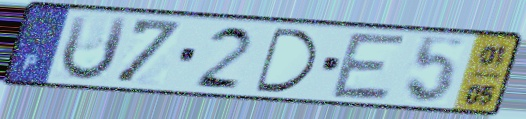2: (189, 24, 259, 92)
5: (404, 36, 468, 107)
7: (116, 15, 185, 86)
D: (252, 25, 320, 95)
E: (327, 30, 411, 103)
U: (57, 13, 132, 84)
